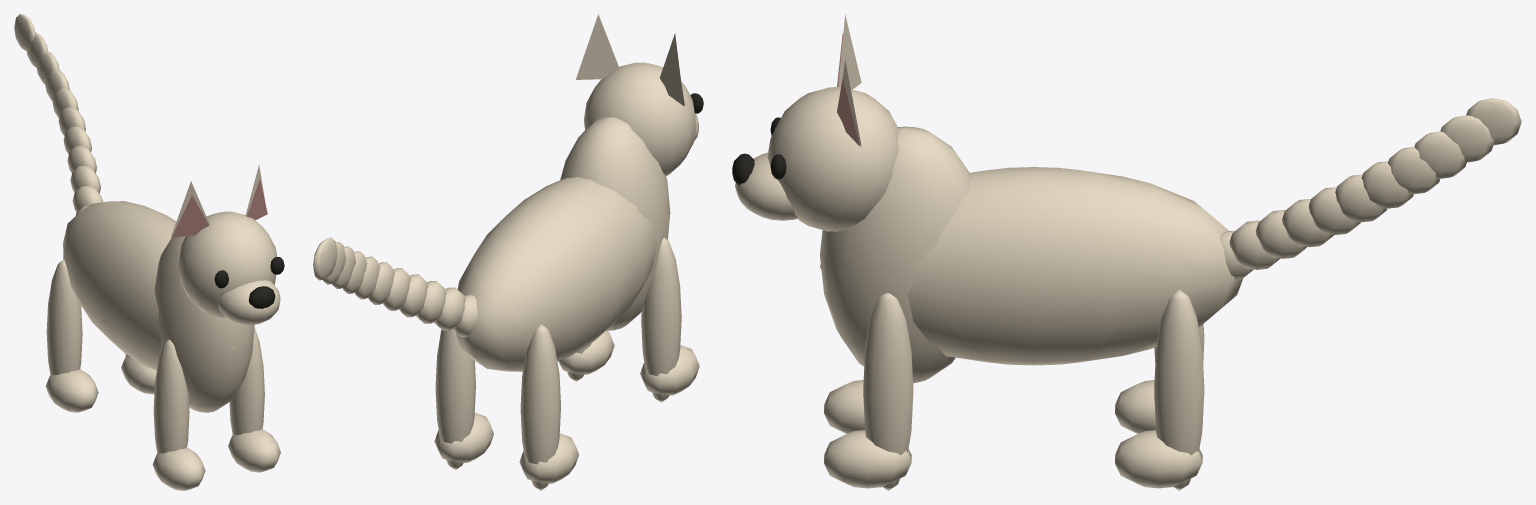
File: cat.glb
The picture shows the model from 3 angles, left to right: view 1: azimuth 30°, elevation 25°; view 2: azimuth 150°, elevation 25°; view 3: azimuth 270°, elevation 25°; orthographic projection. The views are drawn at different scales.
Bounding box in the file's own units: 0.222 × 0.5758 × 0.9594.
1 material, 1 textured.
